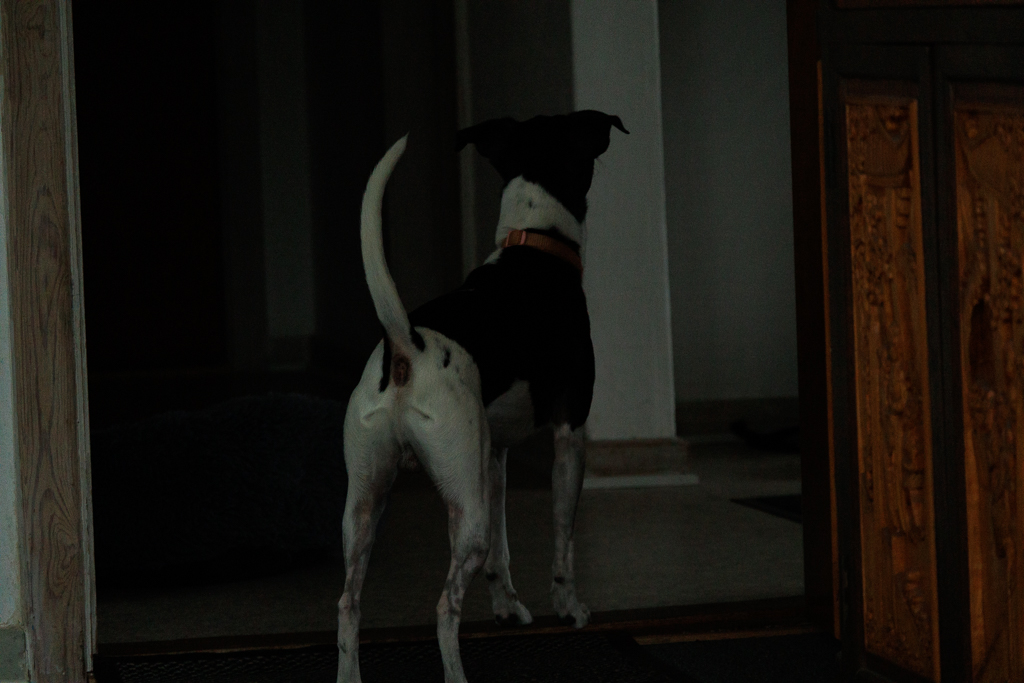Dog: (330, 104, 636, 683)
